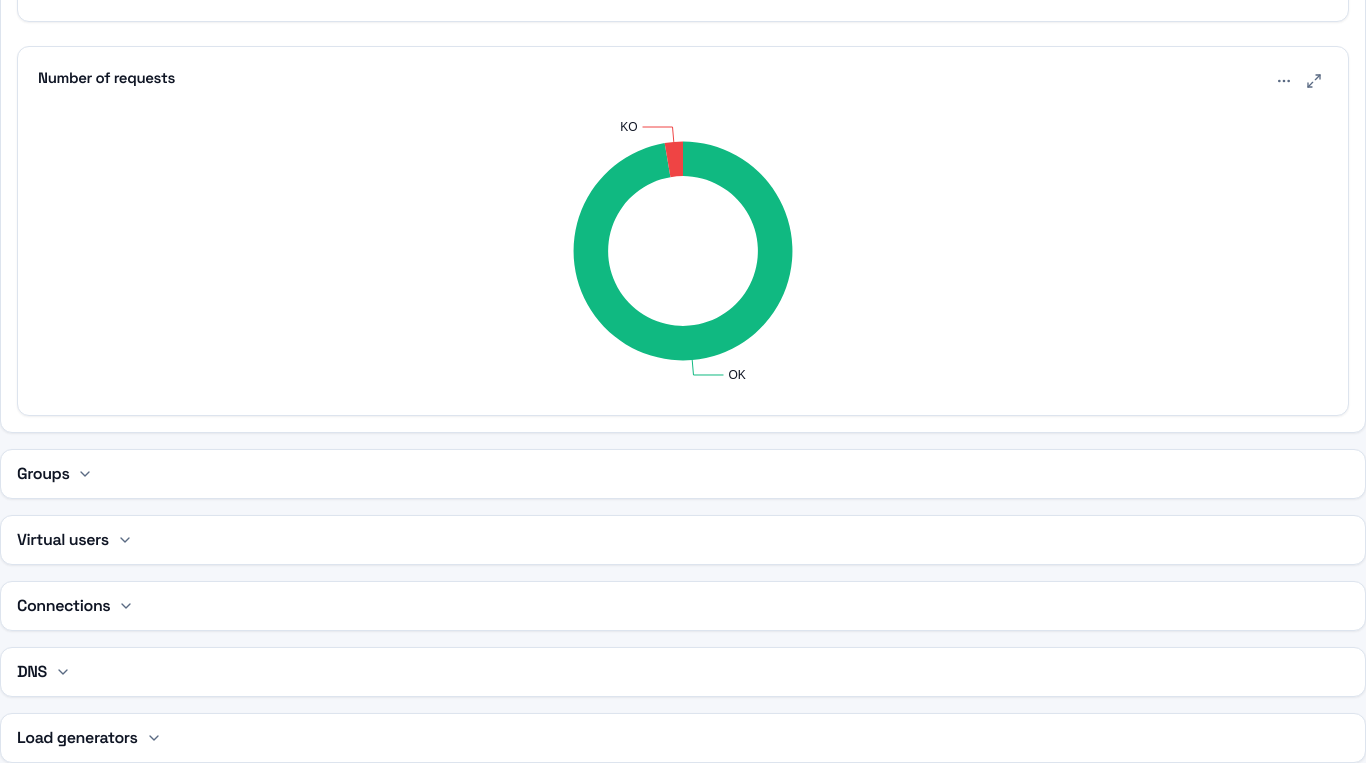
RunReport — GE’s sections › says so when the run has no groups, rather than drawing an empty table
(page scrolled)
Step 1. Click the button "Groups" → coordinates (55, 474), box 17,462 -> 93,486
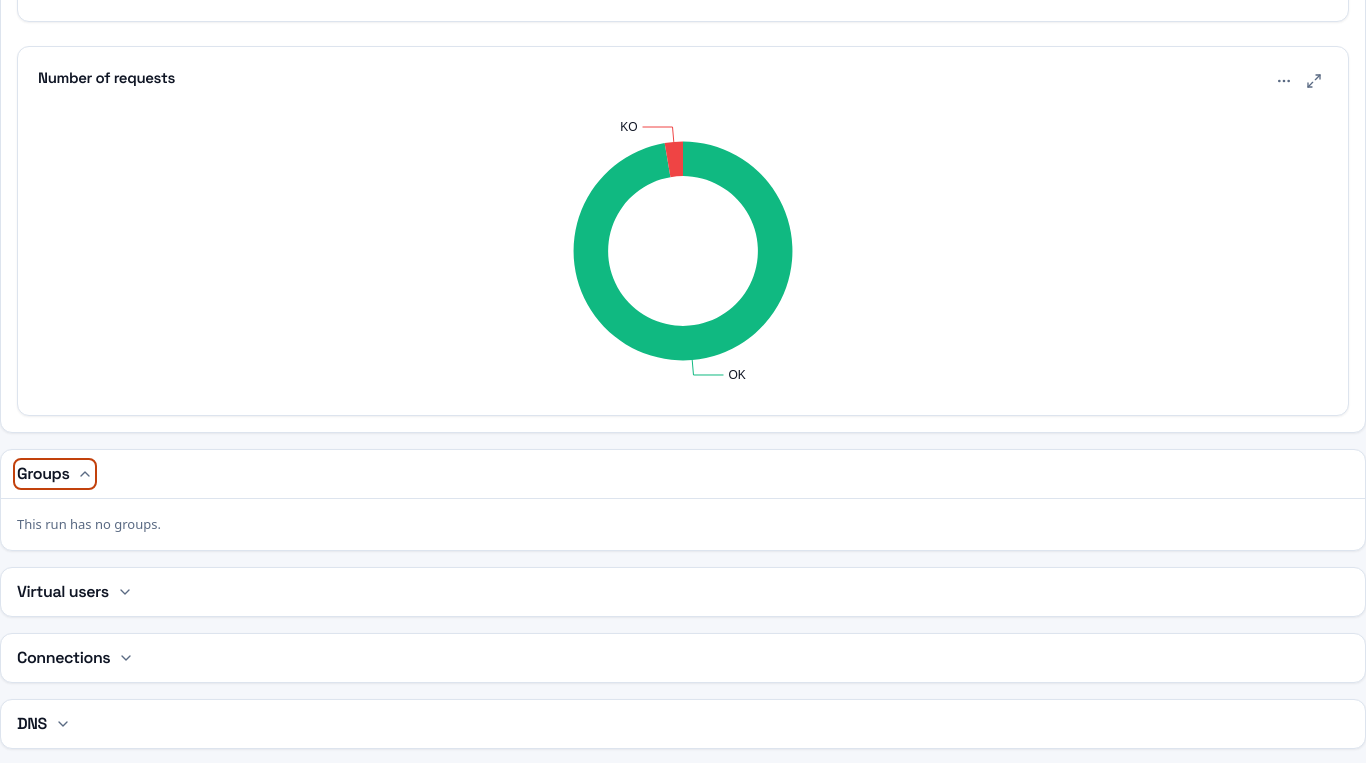
Expected: the text "This run has no groups." is shown, 17,514 -> 161,532
